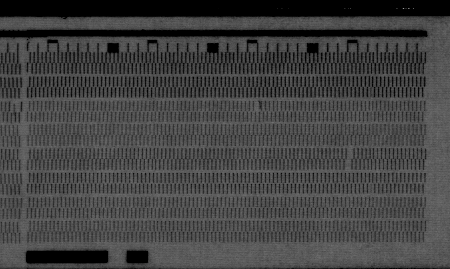Broken hole: (343, 148, 356, 172), (8, 101, 24, 113), (252, 101, 262, 113)
